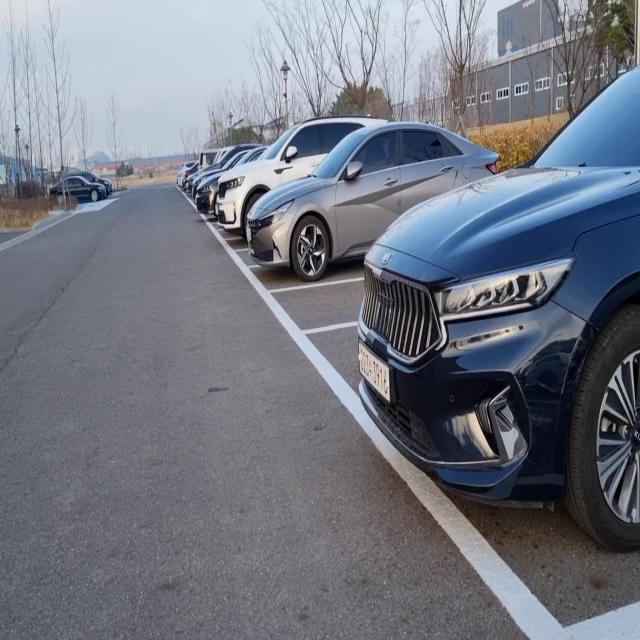Car: (369, 138, 640, 635), (246, 151, 368, 302), (49, 178, 106, 212)
Vacant: (273, 212, 366, 352)
